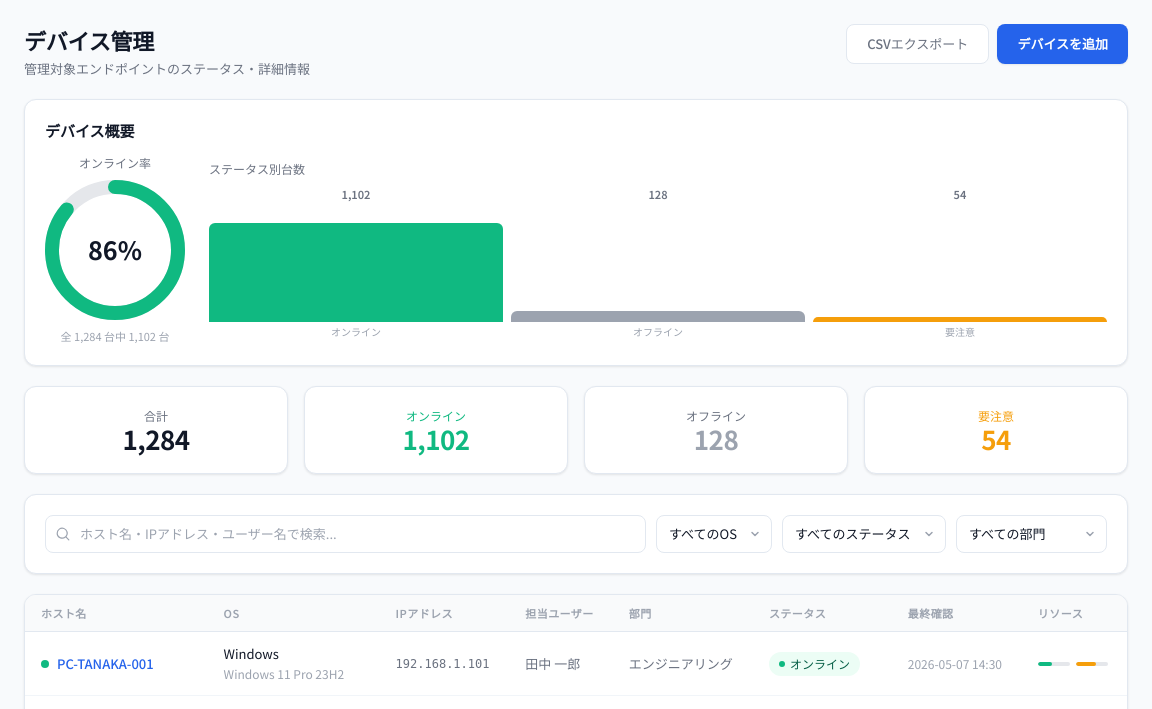
Test case: DevicesPage - OS フィルター › macOS フィルターを選択すると macOS デバイスだけが表示される
The image size is (1152, 709).
Select "macOS" in the 1st dropdown showing "すべてのOS" at (714, 534), box left=656, top=515, right=772, bottom=553
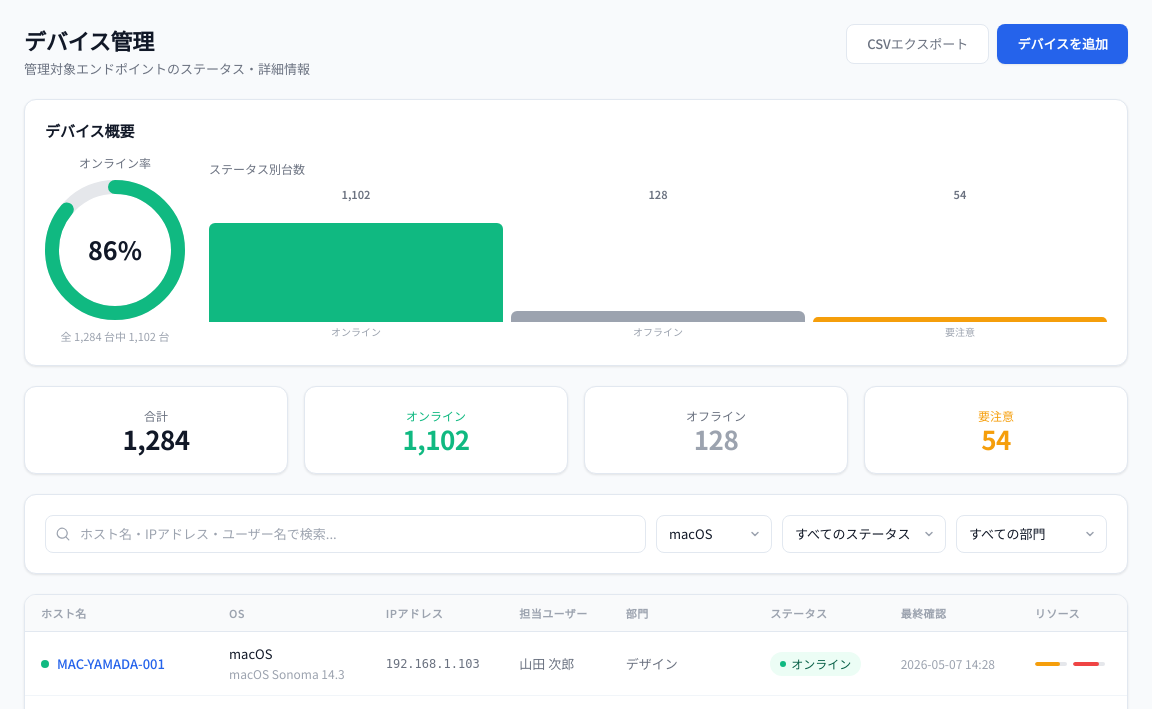
Expected: the text "MAC-YAMADA-001" is shown, left=57, top=654, right=165, bottom=673
Now the text "PC-TANAKA-001" is gone
